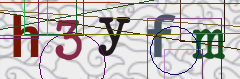3: (54, 18, 82, 61)
f: (146, 12, 177, 58)
h: (12, 13, 40, 59)
m: (190, 28, 225, 60)
y: (96, 16, 131, 57)
